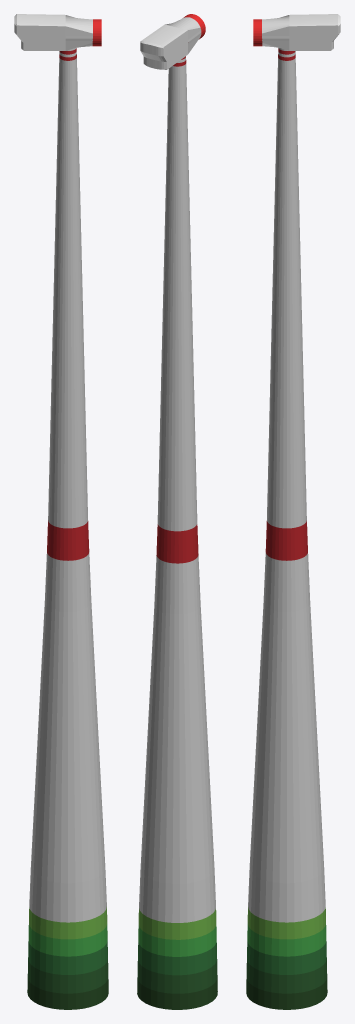
The model's file is wind_turbine_base.fbx.
3 views of the same model, side by side, from view 1: azimuth 90°, elevation 25°; view 2: azimuth 150°, elevation 25°; view 3: azimuth 270°, elevation 25° (orthographic).
Visible parts, largest first — view 1: Cylinder; view 2: Cylinder; view 3: Cylinder.
Boxes of the visible parts, <box> form: Cylinder: <box>14,14,108,1009</box>; Cylinder: <box>137,14,217,1009</box>; Cylinder: <box>246,14,340,1009</box>.
Size of the model in its own units: 600 by 7929 by 697.
